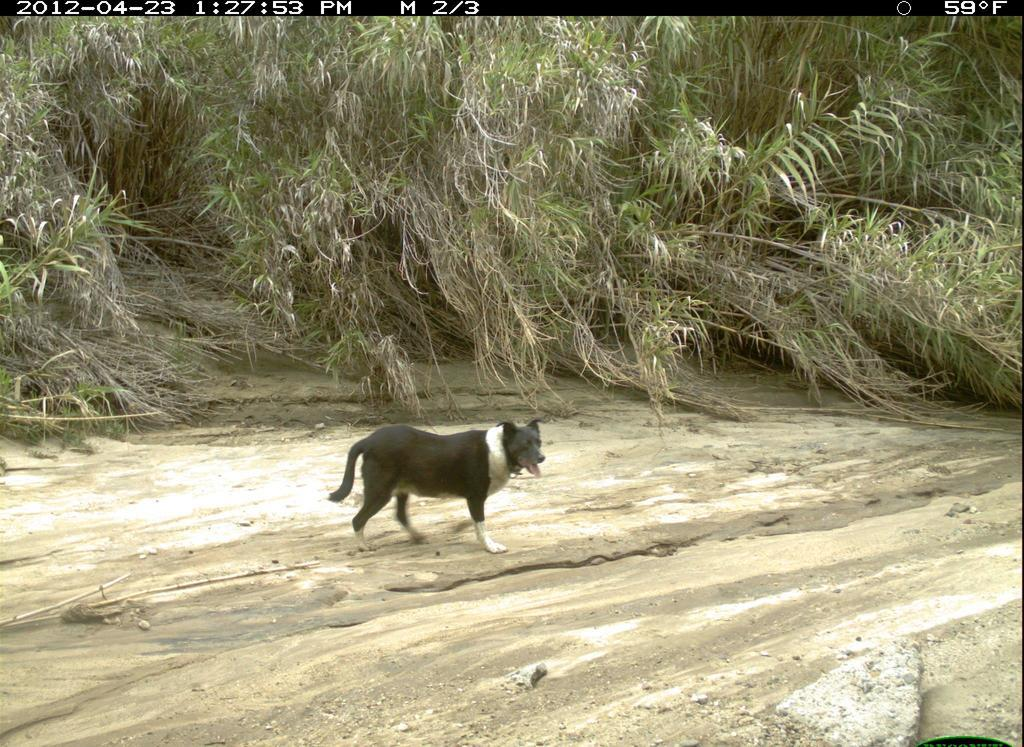dog: (329, 409, 552, 564)
